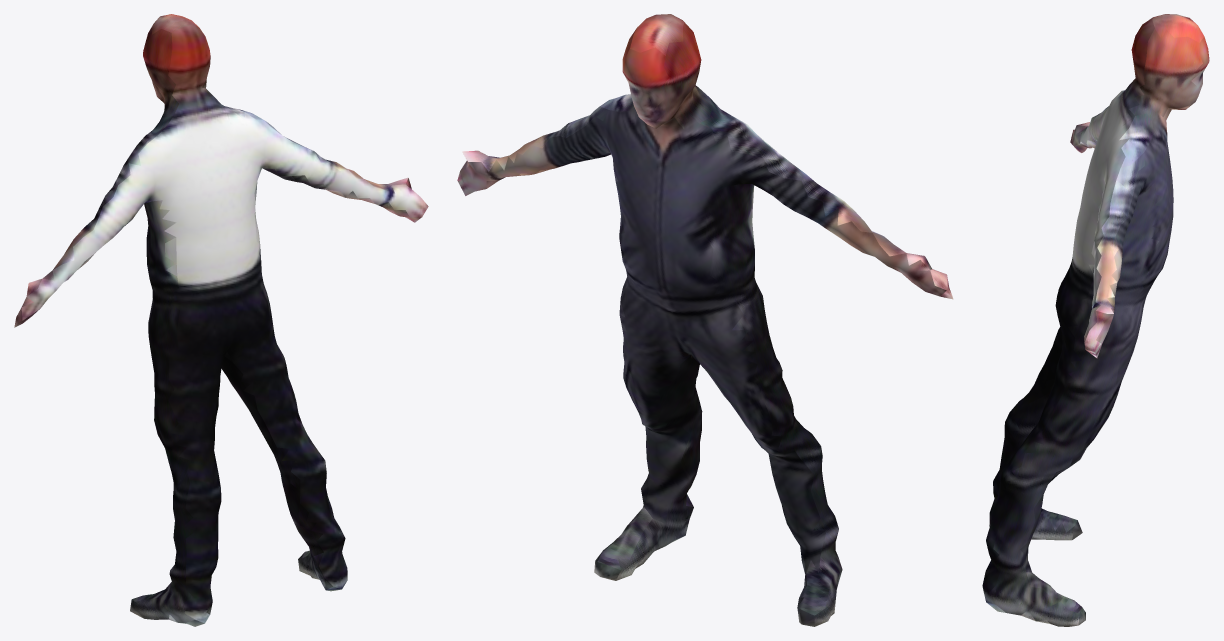
3 renders of one model, left to right at view 1: azimuth 30°, elevation 25°; view 2: azimuth 150°, elevation 25°; view 3: azimuth 270°, elevation 25°, orthographic. The views are drawn at different scales.
Visible parts, largest first — view 1: world; view 2: world; view 3: world.
Boxes of the visible parts, <box> form: world: <box>14,14,428,626</box>; world: <box>457,14,953,626</box>; world: <box>982,14,1209,626</box>.
Size of the model in its own units: 0.8056 by 0.9913 by 0.3633.
Materials: 1 (1 with a texture image).
